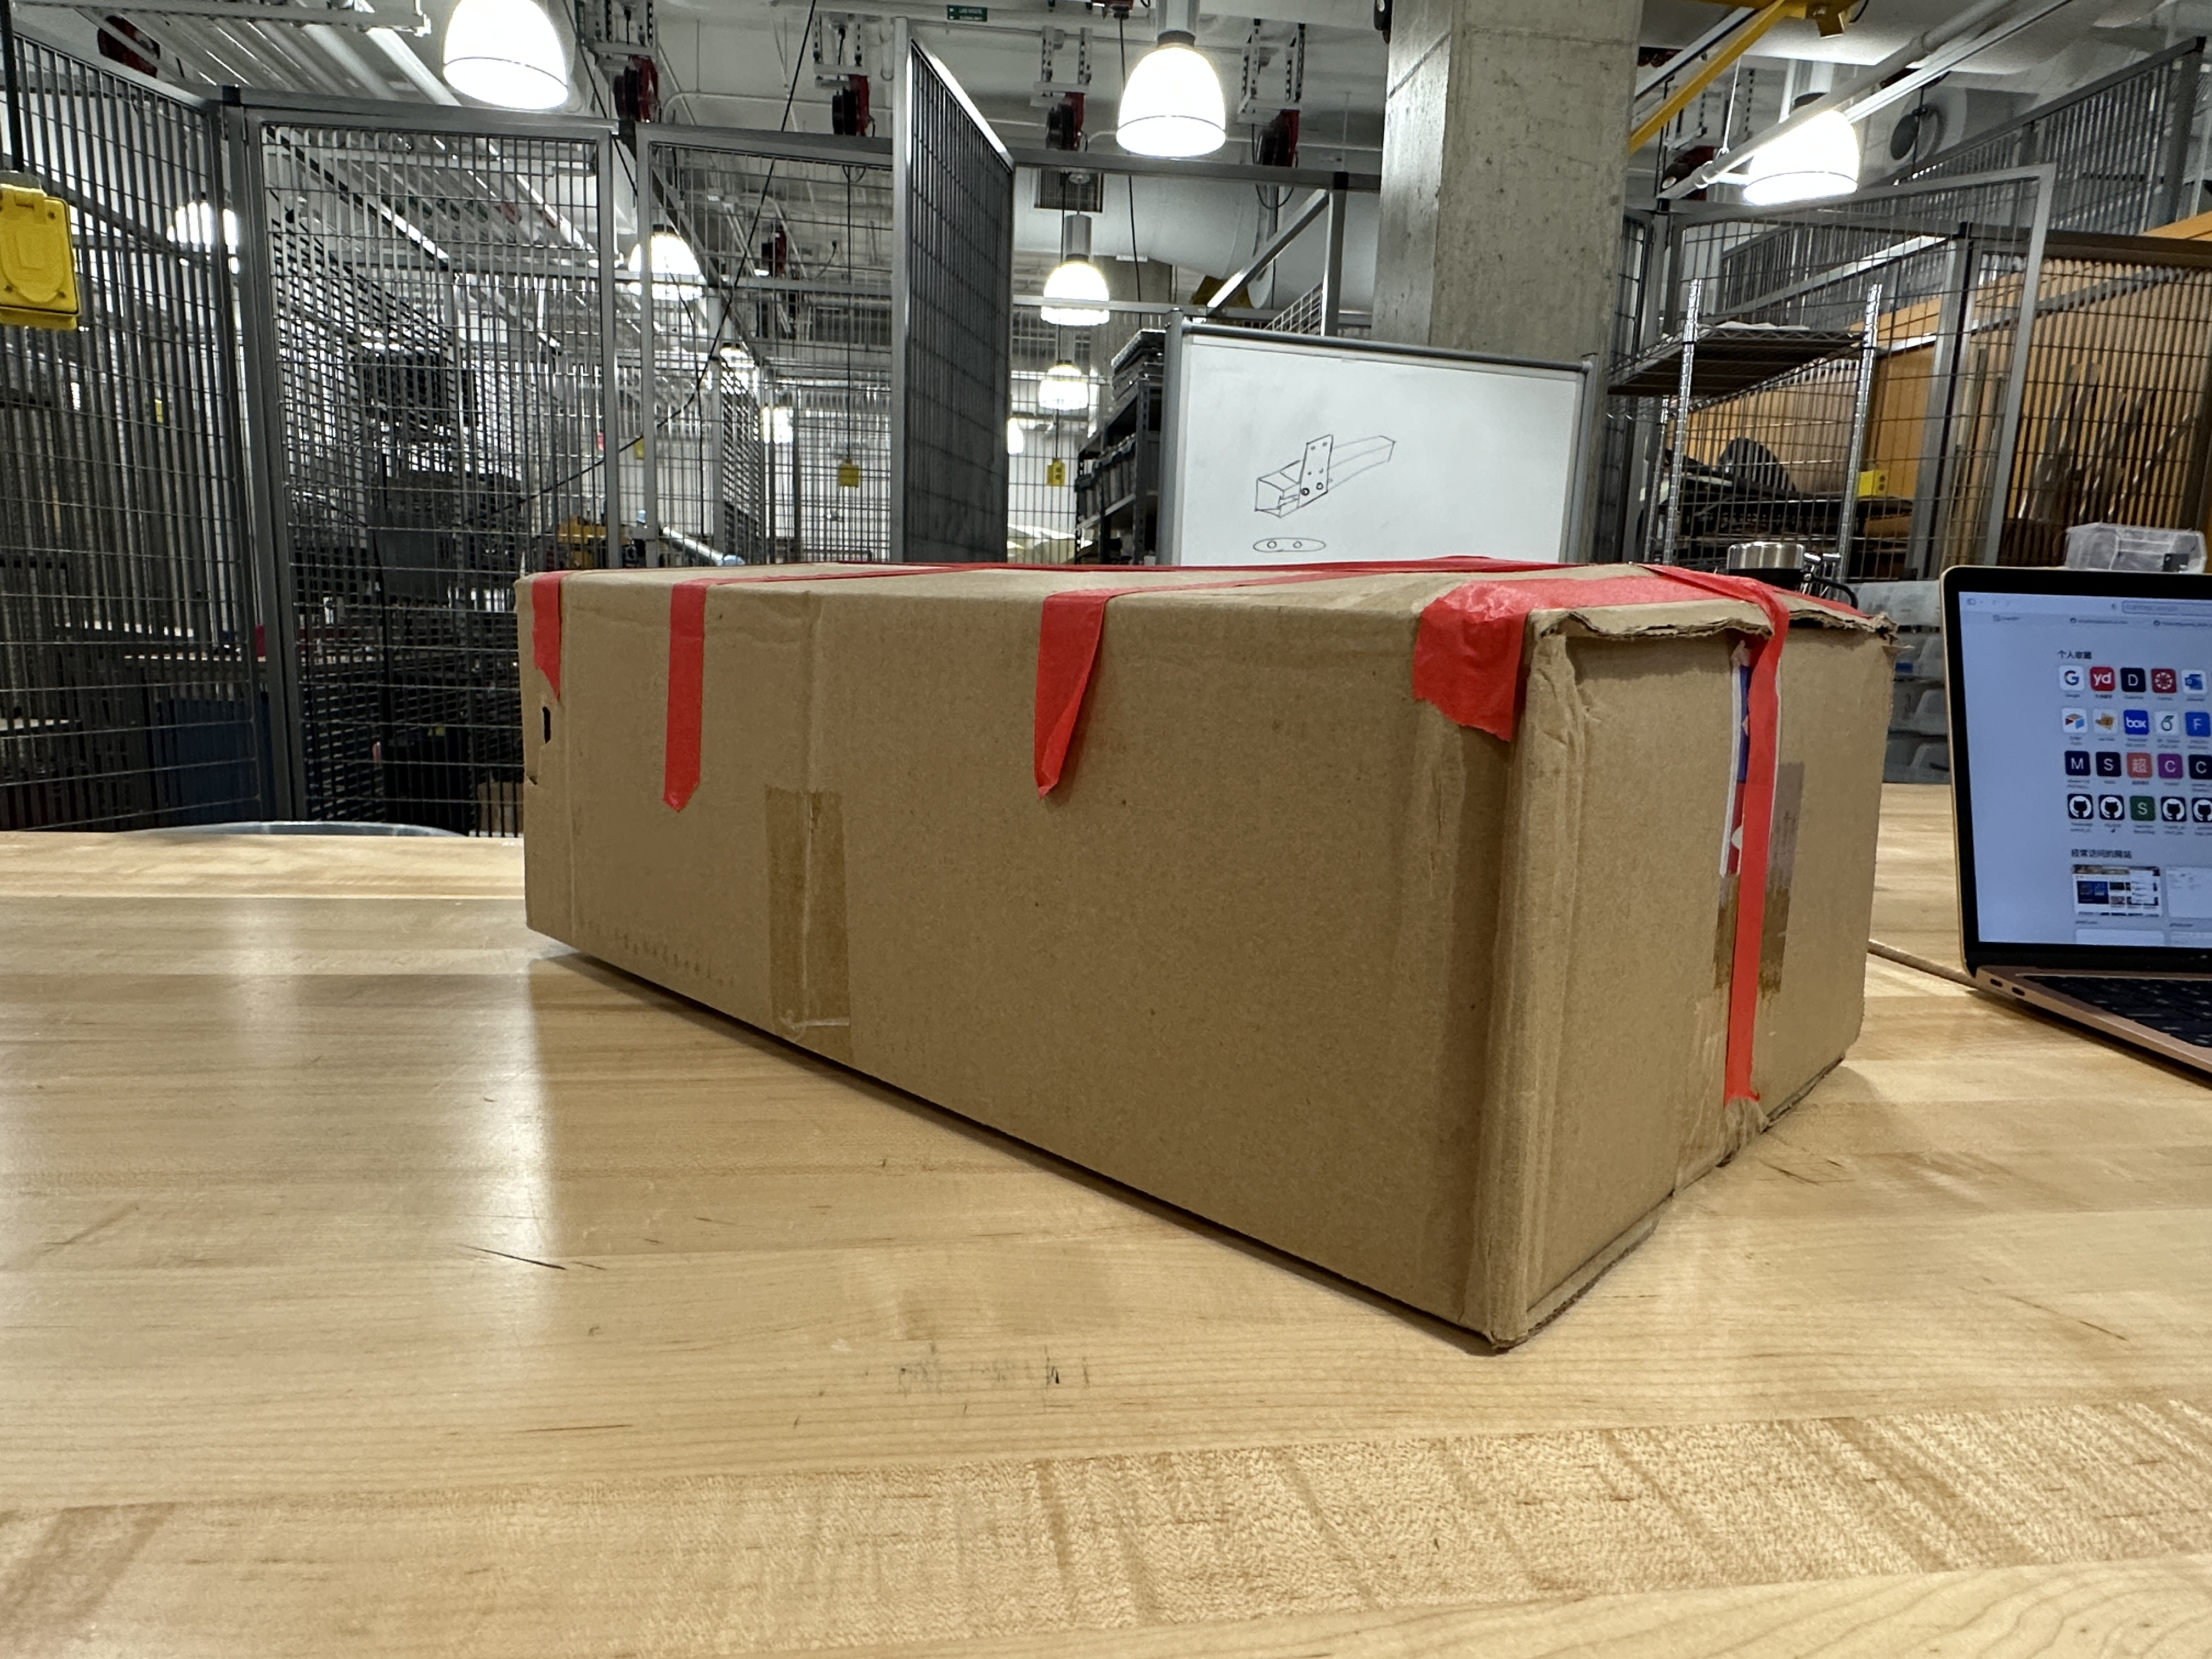Box_Obstacle: (500, 540, 1892, 1349)
